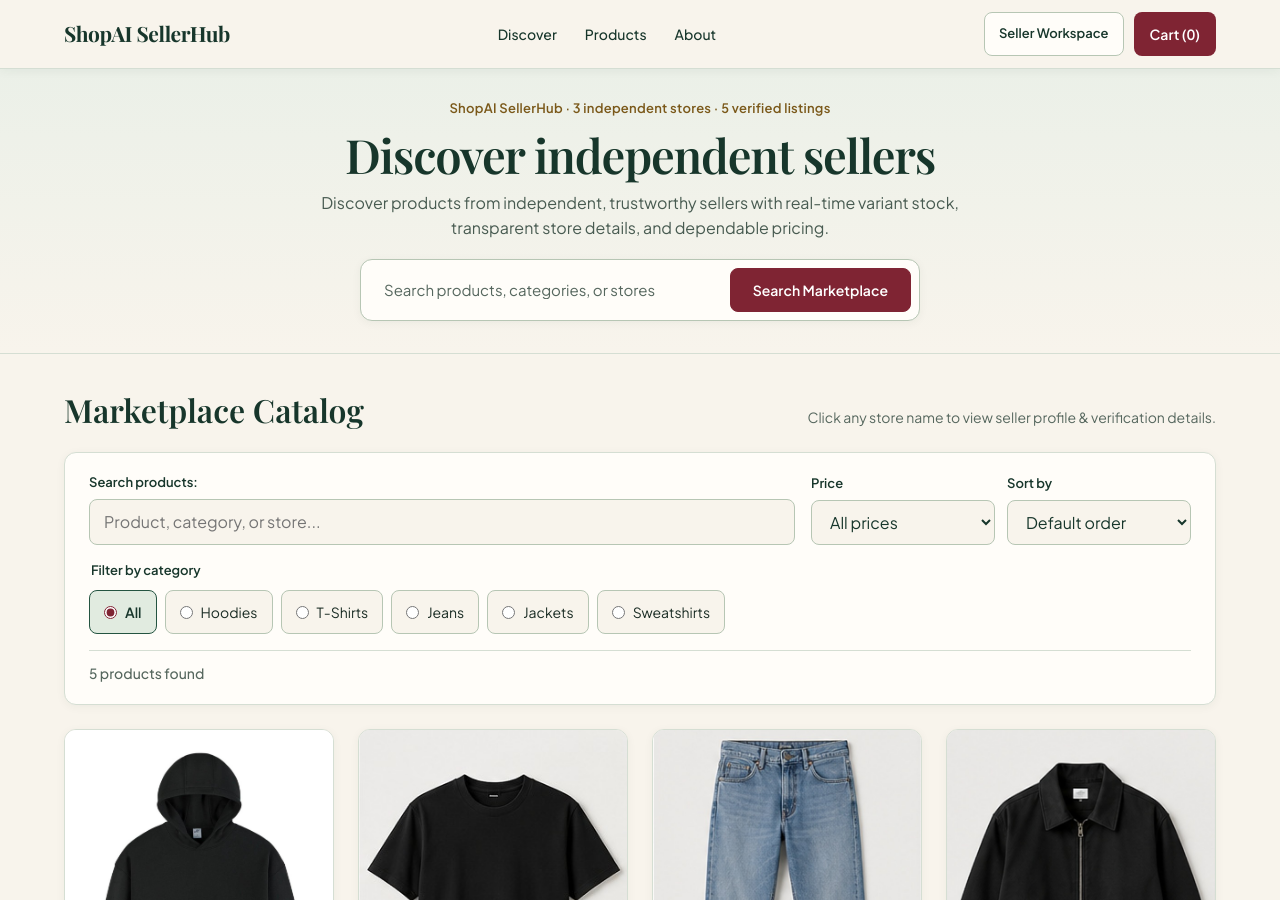
Test case: Stage 1 catalog enhancements › filters products by price range and clears filters from the empty state
Select "Over $75" in the dropdown labelled "Price". click: (903, 522)
box: top-left (811, 500), bottom-right (995, 545)
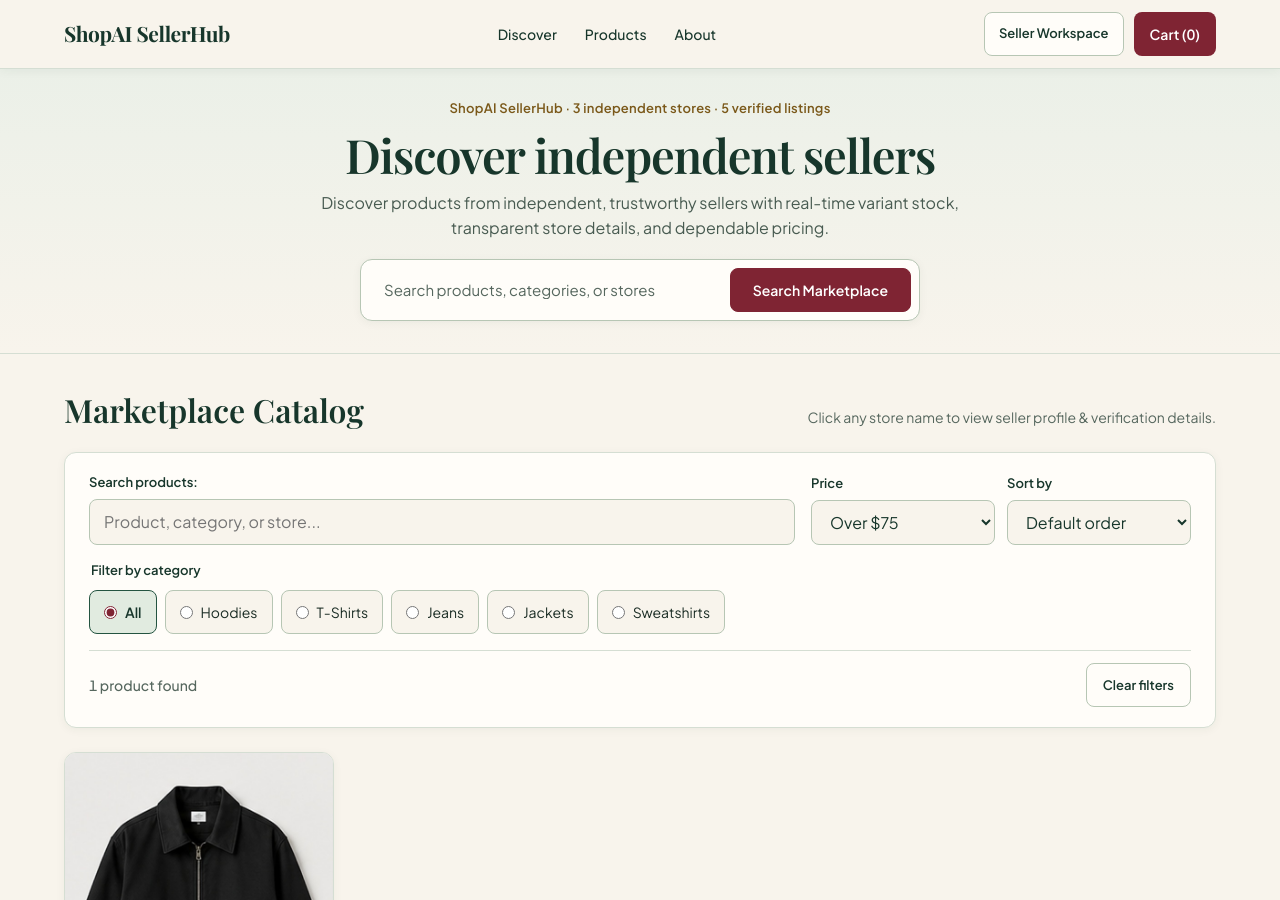
Expected: the text "1 product found" is shown, top-left (89, 675), bottom-right (197, 696)
Type "hoodie" into the search field labelled "Search products:". click: (442, 522)
box: top-left (89, 499), bottom-right (795, 545)
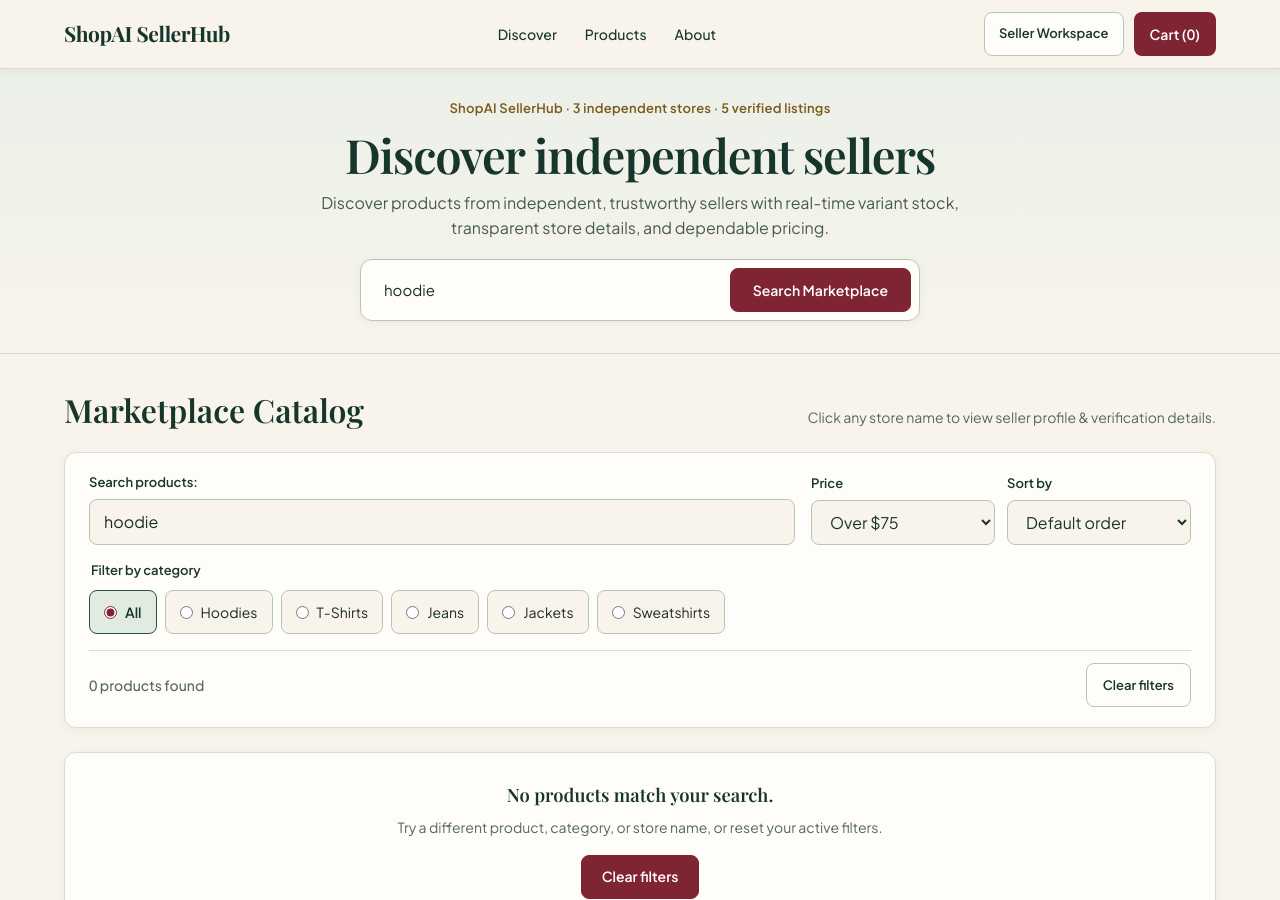
Expected: the text "0 products found" is shown, top-left (89, 675), bottom-right (204, 696)
Click the button "Clear filters" below "No products match your search.". click: click(640, 877)
box: top-left (581, 855), bottom-right (699, 899)
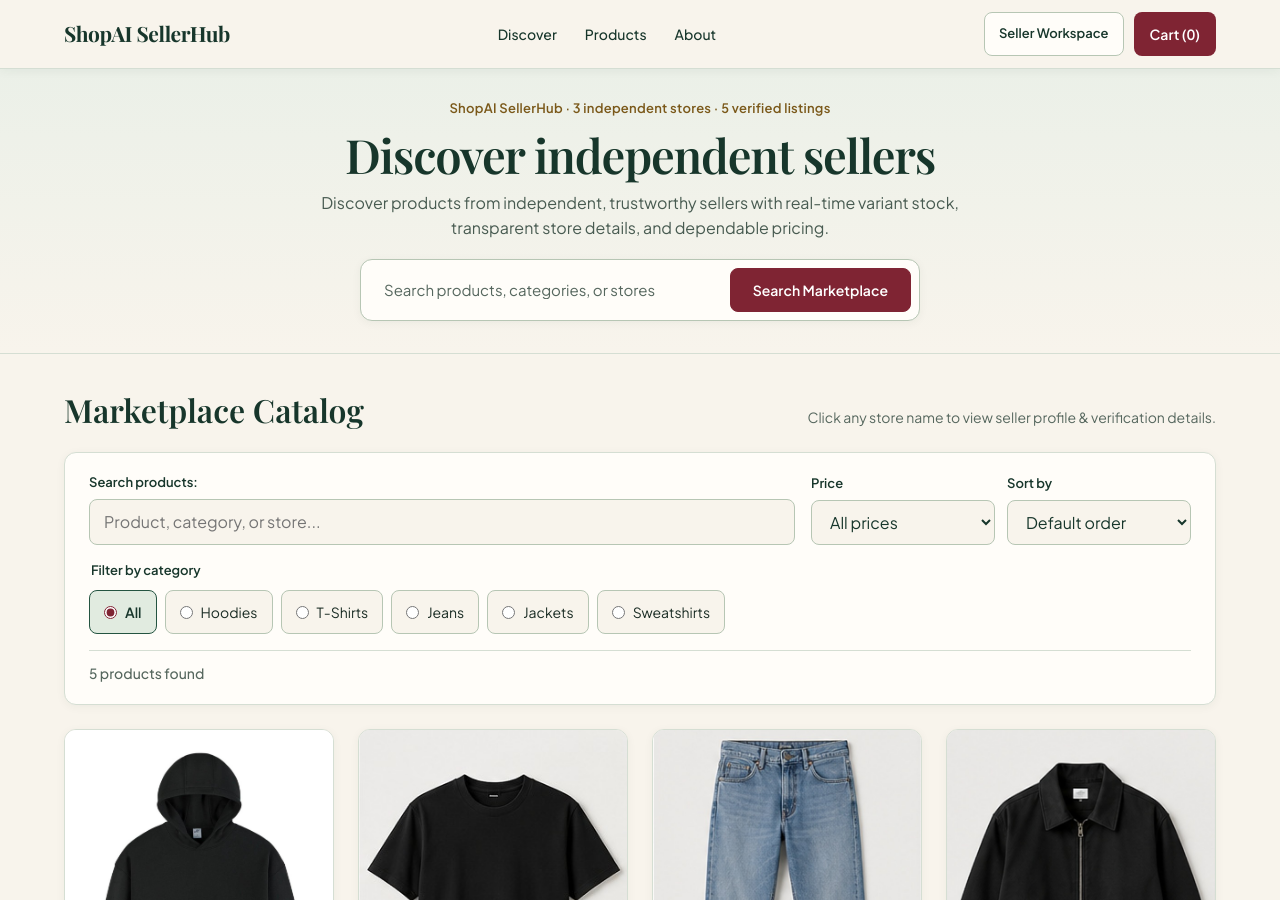
Expected: the text "5 products found" is shown, top-left (89, 664), bottom-right (204, 684)
